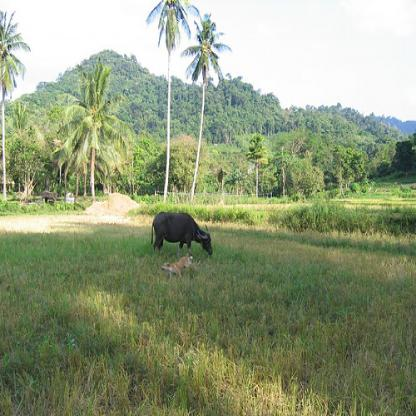cow: (151, 211, 213, 256)
dog: (162, 253, 198, 278)
